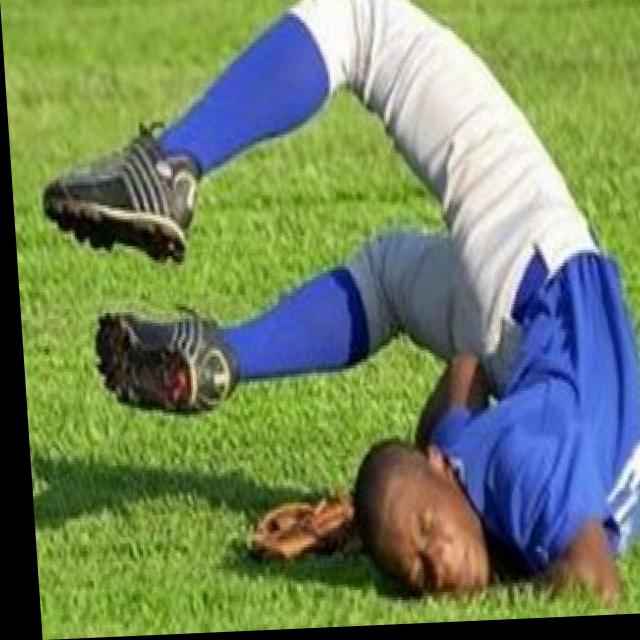fall: (19, 0, 640, 618)
